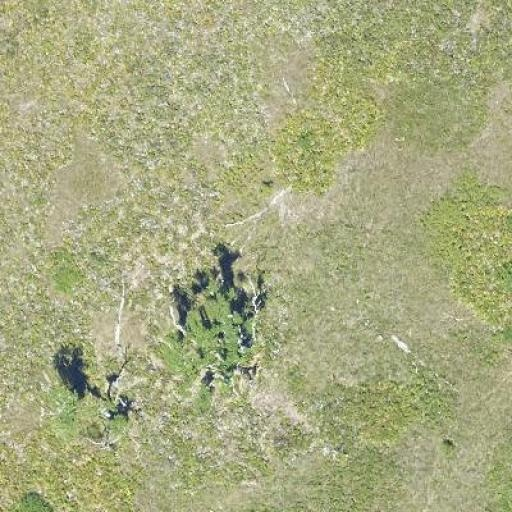tree-top: (164, 297, 265, 403), (48, 397, 136, 447)
